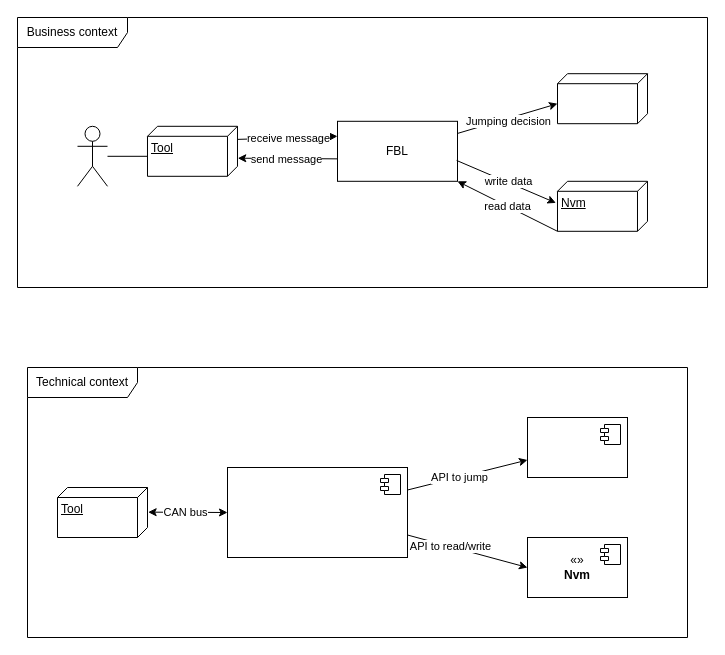
The diagram is 725 pixels wide and 655 high, and some of its shapes have lost their labels. The shapes that lost their labels are listed below. From the top down, each one's centre as x and y in pixels, then its label:
At (602,98): "App SW".
At (92,155): "Actor".
At (577,447): "«» App SW".
At (317,512): "«system» FBL".
